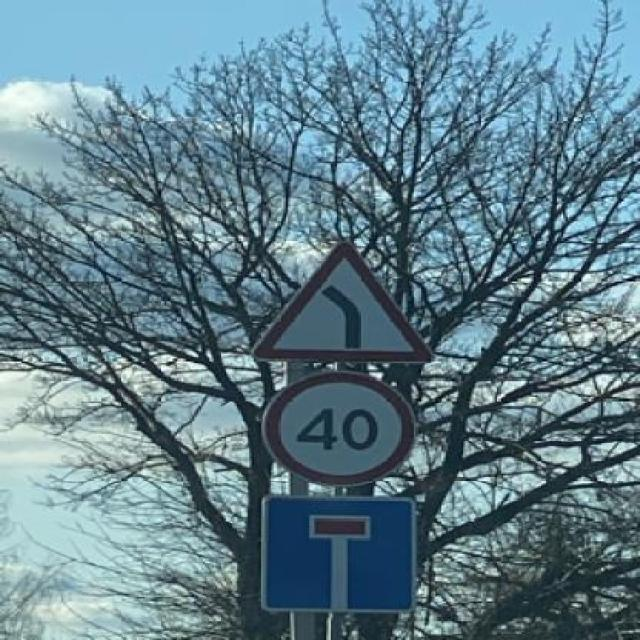forb_speed_over_40: (267, 371, 413, 486)
